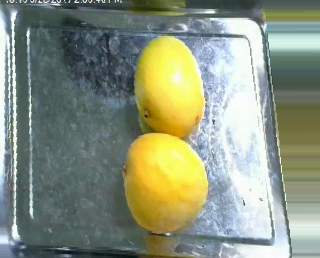Mango: (118, 131, 209, 233), (131, 33, 203, 136)
